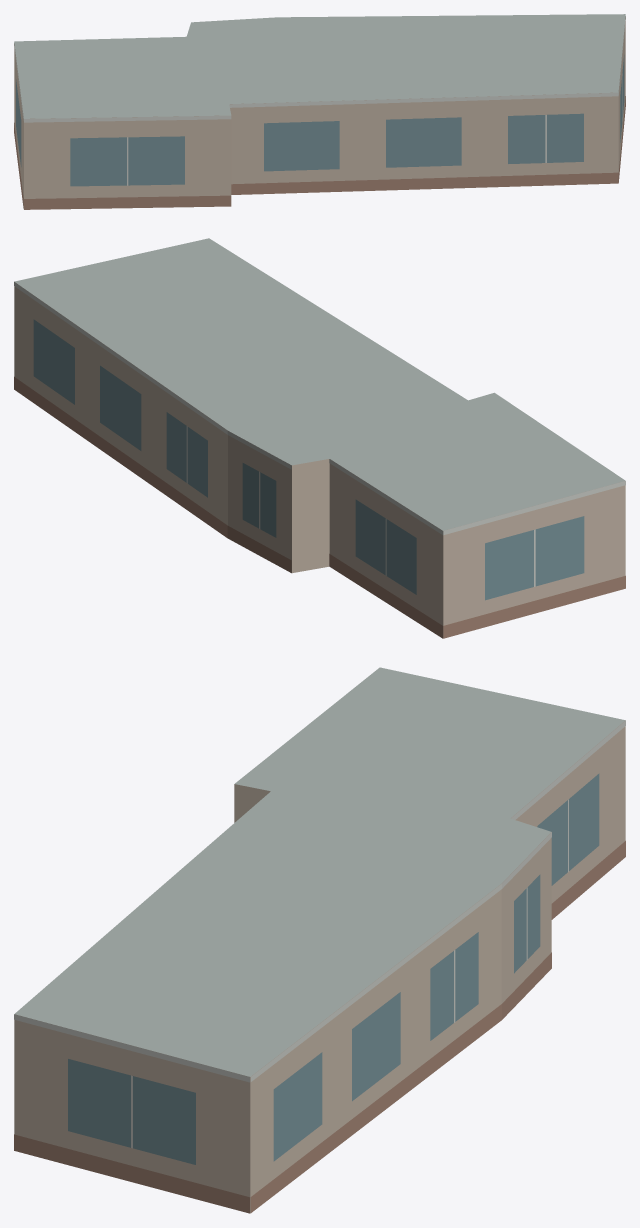
File: survey-upis-32918686.glb
The picture shows the model from 3 angles, top to bottom: view 1: azimuth 30°, elevation 25°; view 2: azimuth 150°, elevation 25°; view 3: azimuth 270°, elevation 25°; orthographic projection. The views are drawn at different scales.
Visible parts, largest first — view 1: survey-upis-32918686.tmp; view 2: survey-upis-32918686.tmp; view 3: survey-upis-32918686.tmp.
Part boxes in pixels (box(x1,y1,x2,y2)): survey-upis-32918686.tmp: box(14, 14, 625, 209); survey-upis-32918686.tmp: box(14, 238, 625, 638); survey-upis-32918686.tmp: box(14, 667, 625, 1213).
Size of the model in its own units: 19.63 by 3.05 by 12.39.
